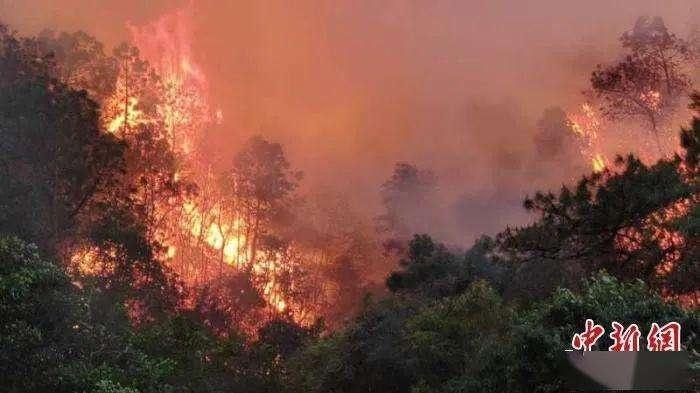fire: (68, 12, 337, 341), (563, 65, 691, 177)
